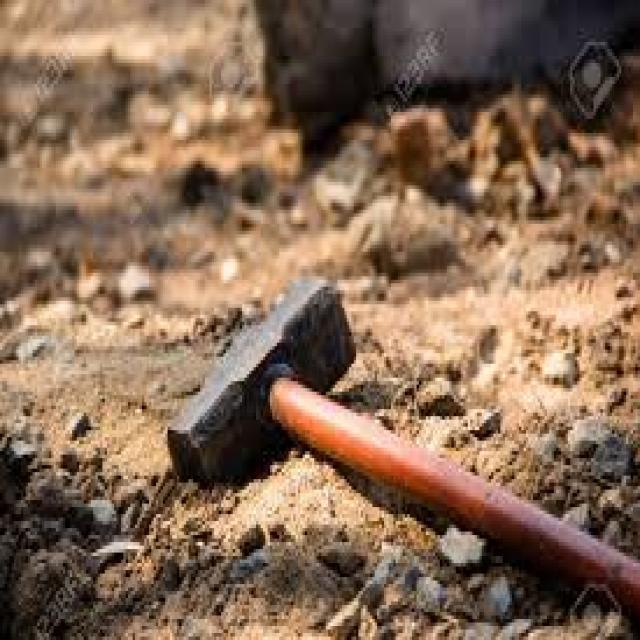hammer: (165, 269, 640, 636)
